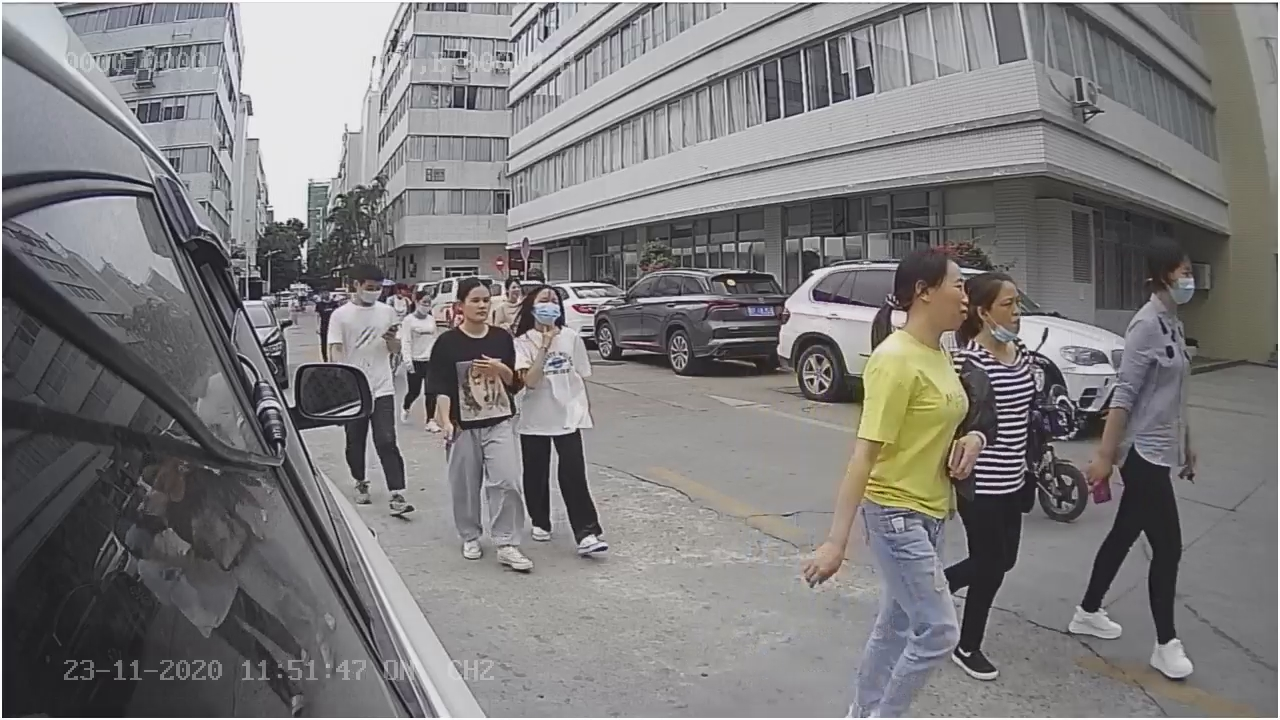person: (1067, 240, 1213, 679), (425, 276, 542, 570)
